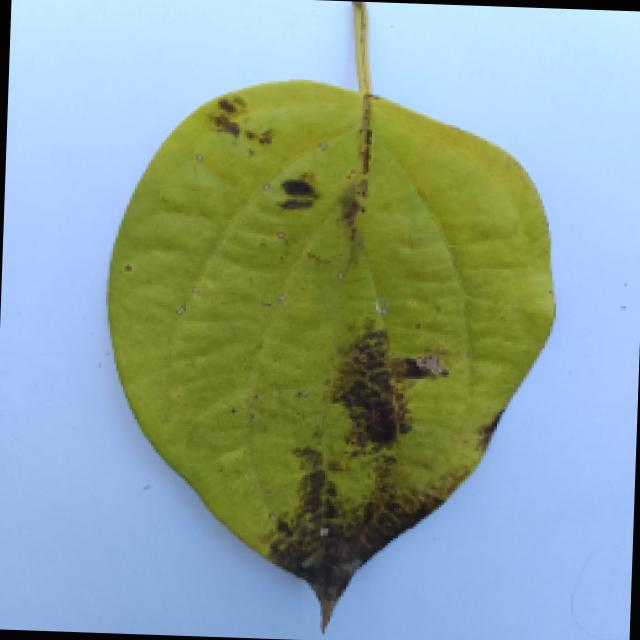slow-decline: (72, 0, 613, 630)
